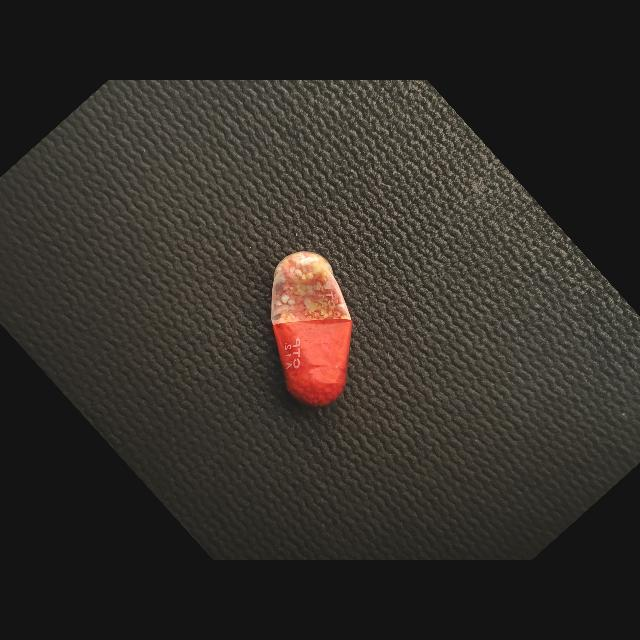Defective Capsule: (271, 251, 353, 406)
